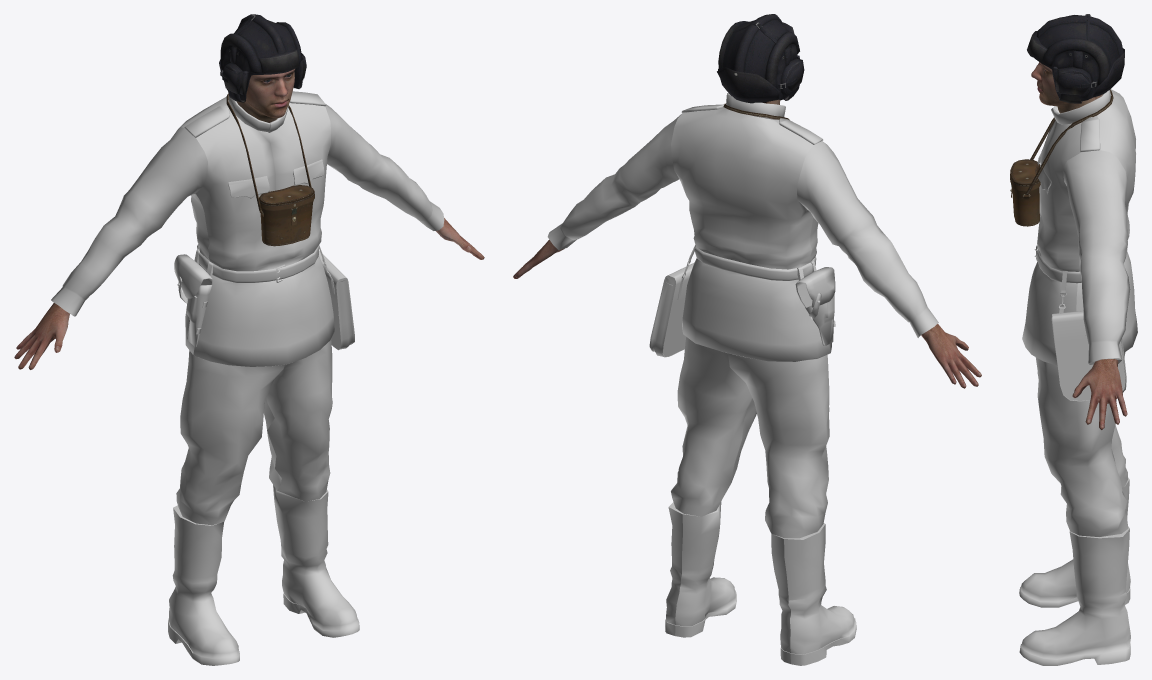
File: tank .fbx
The picture shows the model from 3 angles, left to right: view 1: azimuth 30°, elevation 25°; view 2: azimuth 150°, elevation 25°; view 3: azimuth 270°, elevation 25°; orthographic projection.
Parts seen in each view (by area): view 1: lib_rus_tankcrew.005, lib_rus_tankcrew.001, lib_rus_tankcrew.002, lib_rus_tankcrew.003, lib_rus_tankcrew.007, lib_rus_tankcrew.006; view 2: lib_rus_tankcrew.005, lib_rus_tankcrew.001, lib_rus_tankcrew.006, lib_rus_tankcrew.002, lib_rus_tankcrew.007; view 3: lib_rus_tankcrew.005, lib_rus_tankcrew.001, lib_rus_tankcrew.006, lib_rus_tankcrew.002, lib_rus_tankcrew.003.
Part boxes in pixels (x1,y1,x2,y2): lib_rus_tankcrew.005: (51,91,444,665); lib_rus_tankcrew.001: (219,14,306,102); lib_rus_tankcrew.002: (14,69,484,369); lib_rus_tankcrew.003: (226,93,314,246); lib_rus_tankcrew.007: (174,249,213,347); lib_rus_tankcrew.006: (319,245,354,350); lib_rus_tankcrew.005: (547,93,938,665); lib_rus_tankcrew.001: (717,14,804,103); lib_rus_tankcrew.006: (649,246,694,357); lib_rus_tankcrew.002: (513,99,981,388); lib_rus_tankcrew.007: (795,260,835,345); lib_rus_tankcrew.005: (1019,89,1137,665); lib_rus_tankcrew.001: (1027,14,1124,103); lib_rus_tankcrew.006: (1051,271,1126,406); lib_rus_tankcrew.002: (1031,62,1127,429); lib_rus_tankcrew.003: (1010,89,1113,226).
Size of the model in its own units: 14503 by 18411 by 3484.
